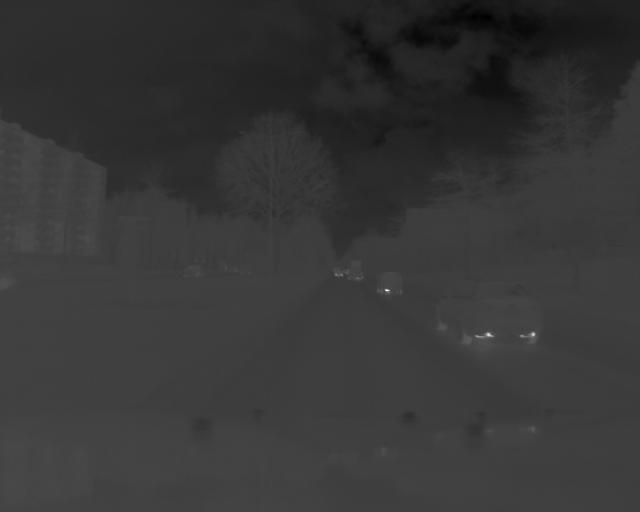car: (434, 277, 546, 351), (375, 272, 406, 298), (182, 263, 205, 280)
